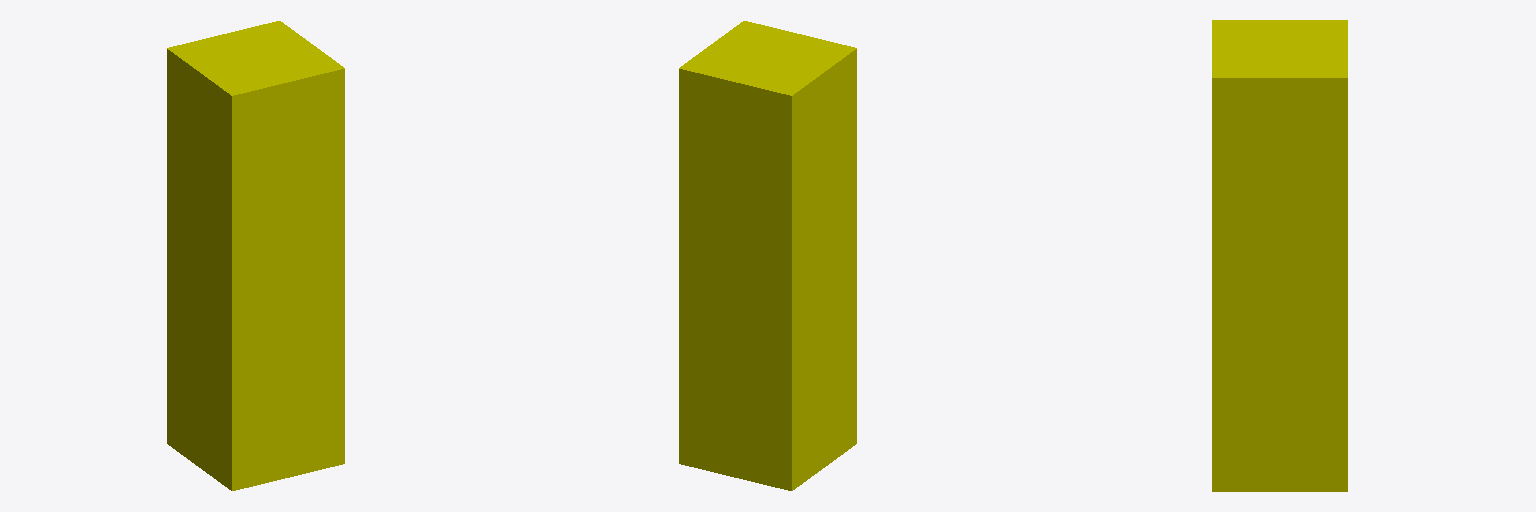
robot.urdf — yellow_cuboid:
<?xml version="1.0"?>
<robot name="yellow_cuboid">
  <material name="yellow">
    <color rgba="0.8 0.8 0.0 1.0"/>
  </material>

  <link name="box">
    <visual>
      <material name="yellow"/>
      <origin xyz="0.0 0.0 0.05" rpy="0.0 0.0 0.0"/>
      <geometry>
        <box size="0.03 0.03 0.1"/>
      </geometry>
    </visual>
  </link>
</robot>

--- Render facts (derived) ---
3 views of the same robot in one strip: view 1: azimuth 30°, elevation 25°; view 2: azimuth 150°, elevation 25°; view 3: azimuth 270°, elevation 25° (orthographic).
Model yellow_cuboid with 1 links and 0 joints (none), rooted at box, posed all joints at 0.
Links seen in each view (by area): view 1: box; view 2: box; view 3: box.
Boxes of the visible links, x1=… form: box: x1=167, y1=21, x2=344, y2=490; box: x1=679, y1=21, x2=856, y2=490; box: x1=1212, y1=20, x2=1347, y2=491.
Bounding box of the posed robot: 0.03 × 0.03 × 0.1 m (x, y, z).
Geometry: primitives only (box / cylinder / sphere), no mesh files.